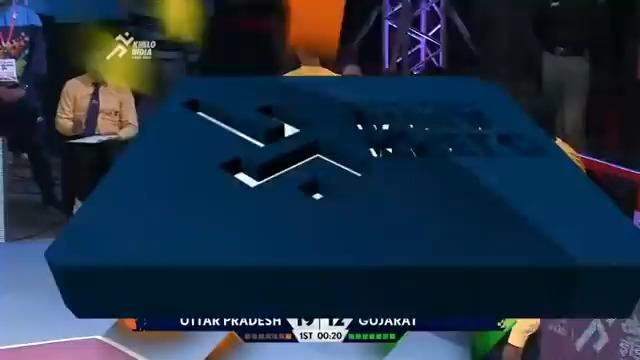Player: (53, 26, 139, 218)
referee: (334, 0, 551, 103), (0, 0, 62, 210), (334, 0, 384, 76)
